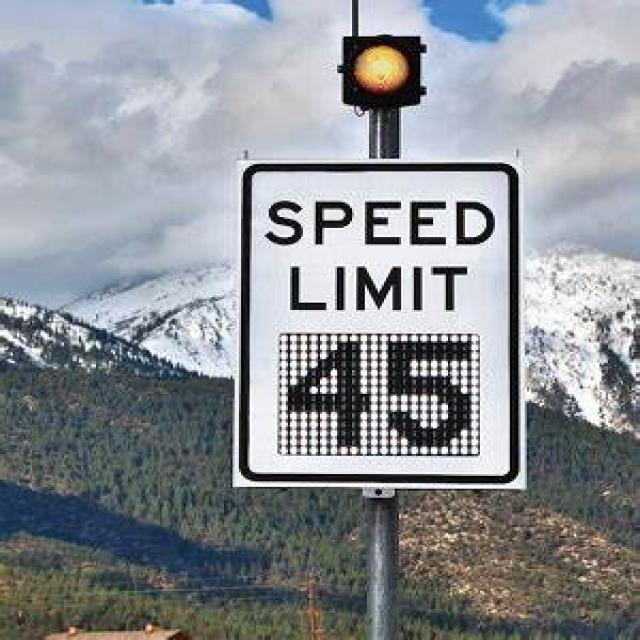speedLimit45: (244, 155, 526, 487)
